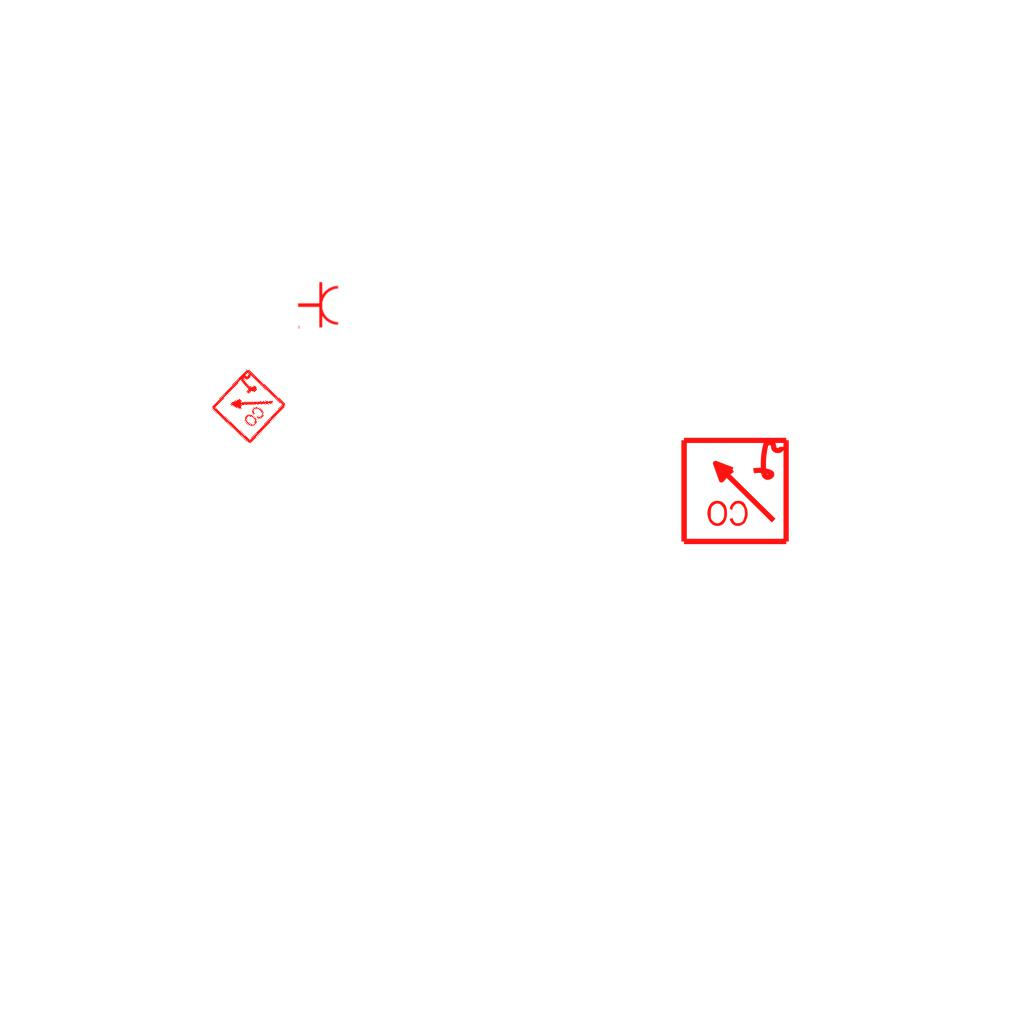ROA_Rauchmelder_optisch_mit_Signalgeber_(Sockelsirene): (678, 433, 791, 546), (208, 366, 288, 446)
Schukosteckdose_einfach: (297, 281, 340, 331)
